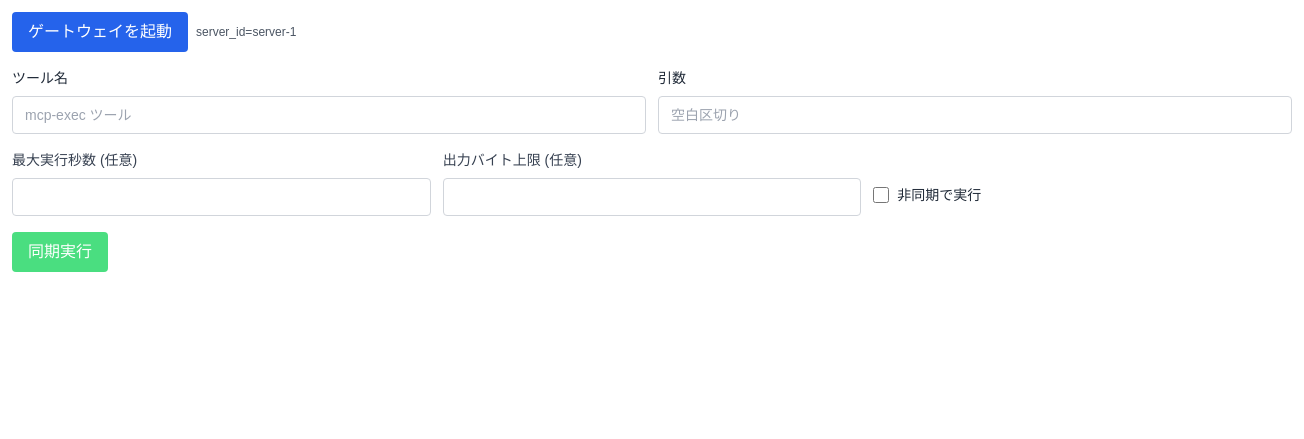
Scenario: SessionExecutionPanel › creates session and shows endpoints
The image size is (1304, 439).
Click the button "ゲートウェイを起動": [100, 32] box [12,12,188,52]
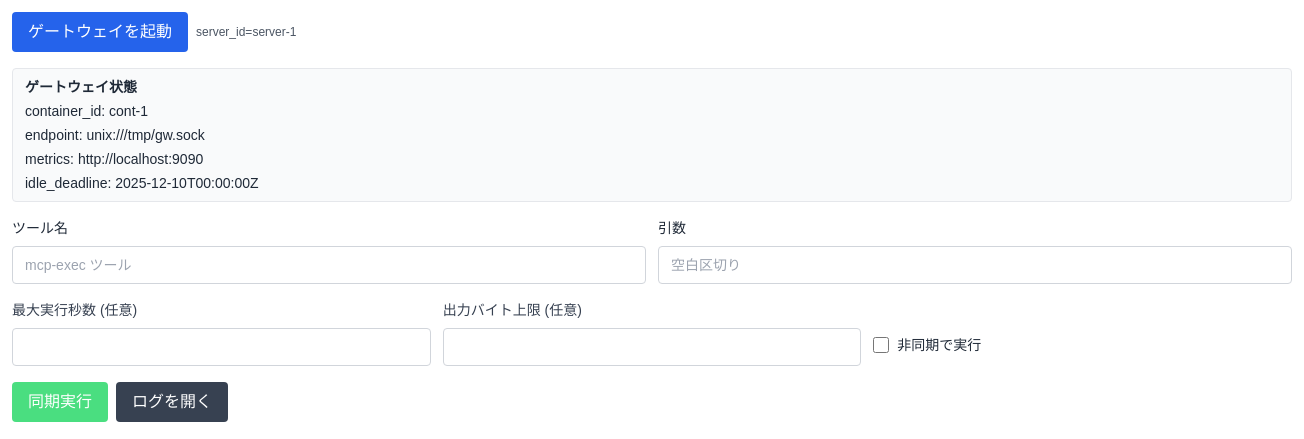
Expected: the text "endpoint: unix:///tmp/gw.sock" is shown, [25,127,205,143]
Expected: the text "container_id: cont-1" is shown, [25,103,148,119]
